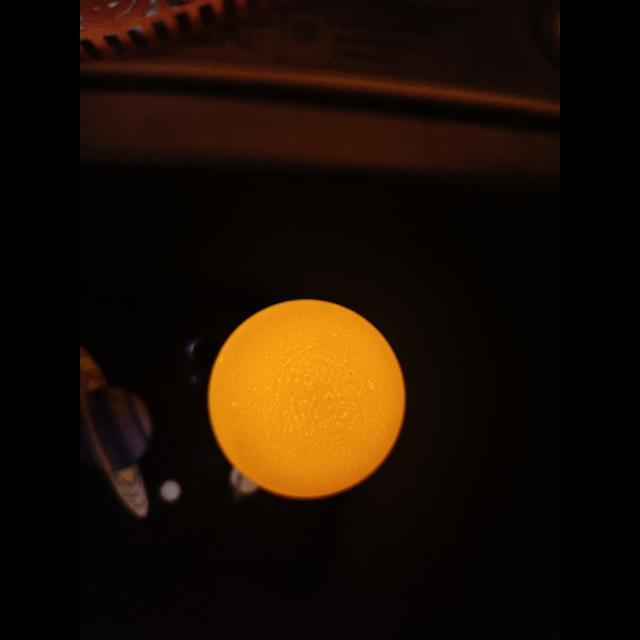AA - Premium: (208, 300, 405, 499)
